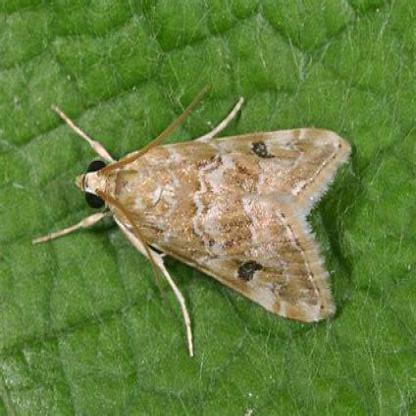Hellula undalis: (32, 82, 358, 357)
